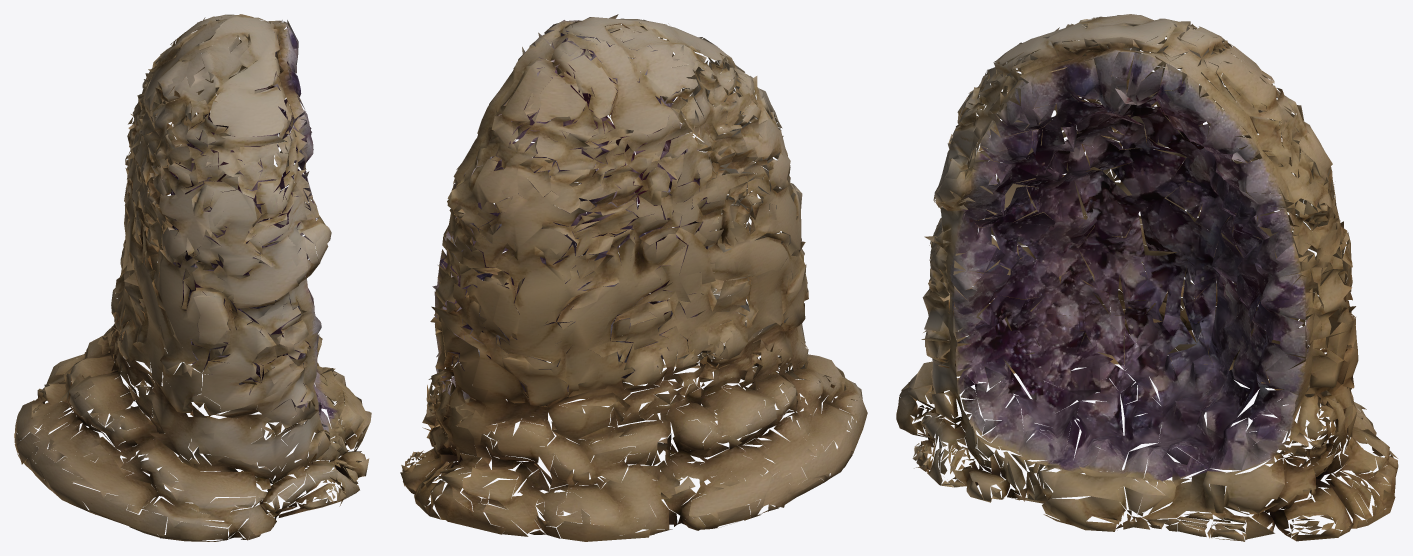
The model's file is ch10_geode_crystal_wall_LOD1.glb.
The picture shows the model from 3 angles, left to right: view 1: azimuth 30°, elevation 25°; view 2: azimuth 150°, elevation 25°; view 3: azimuth 270°, elevation 25°; orthographic projection. The views are drawn at different scales.
Parts seen in each view (by area): view 1: tripo_node_a2872151-7de7-4f96-a33a-80caff468798; view 2: tripo_node_a2872151-7de7-4f96-a33a-80caff468798; view 3: tripo_node_a2872151-7de7-4f96-a33a-80caff468798.
Boxes of the visible parts, x1,y1,x2,y2 form: tripo_node_a2872151-7de7-4f96-a33a-80caff468798: (14, 14, 371, 541); tripo_node_a2872151-7de7-4f96-a33a-80caff468798: (400, 14, 867, 541); tripo_node_a2872151-7de7-4f96-a33a-80caff468798: (896, 14, 1398, 541).
Bounding box in the file's own units: 0.831 × 0.9998 × 0.9925.
1 material, 1 textured.
